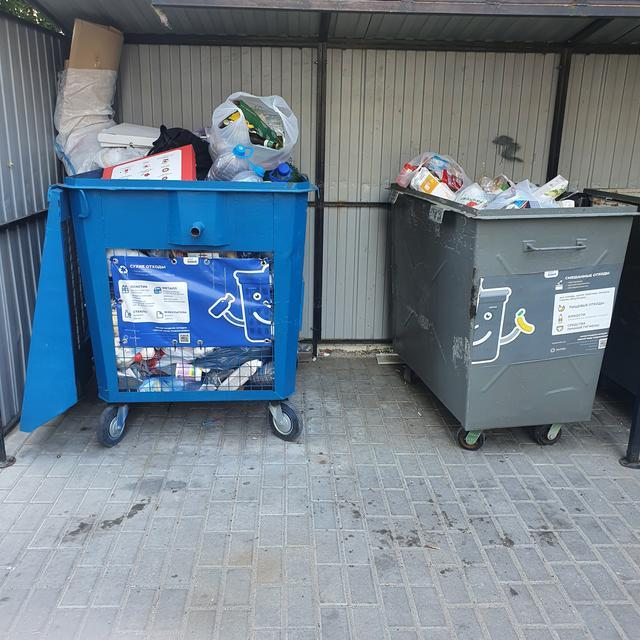Trash_Can_Full: (65, 90, 312, 403), (386, 150, 640, 433)
